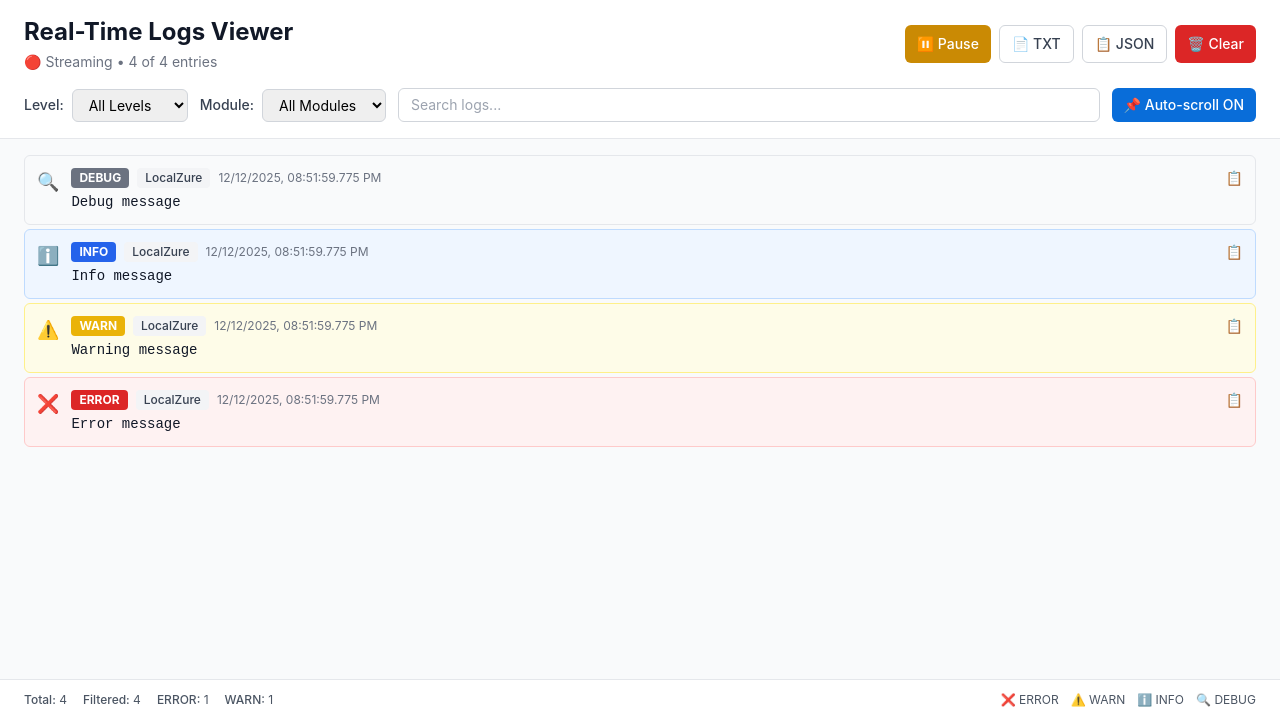
Test case: Enhanced Logs Component - DESKTOP-003 › AC3: Filter by log level › filters logs by INFO level
Select "ℹ️ INFO" in the dropdown with test id "level-filter" at (130, 105), box x1=72 y1=88 x2=188 y2=122
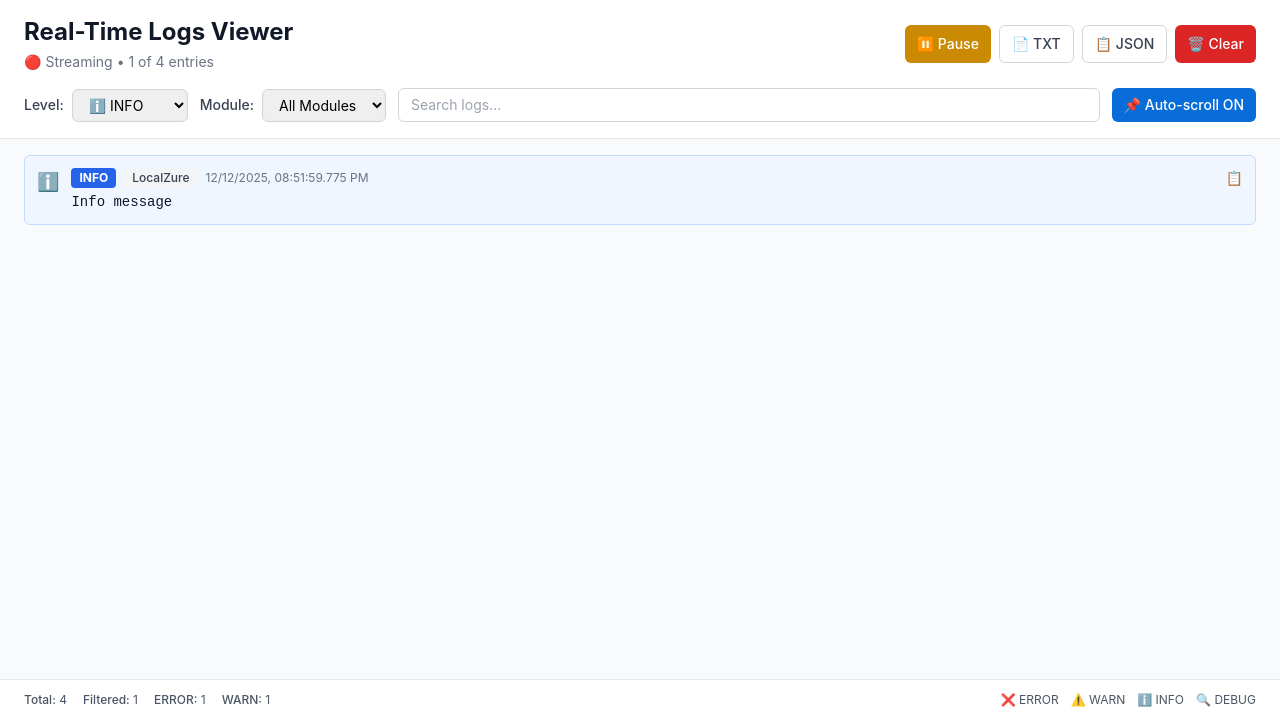
Now the text "Debug message" is gone
Now the text "Info message" is shown, box x1=72 y1=194 x2=172 y2=210
Now the text "Warning message" is gone
